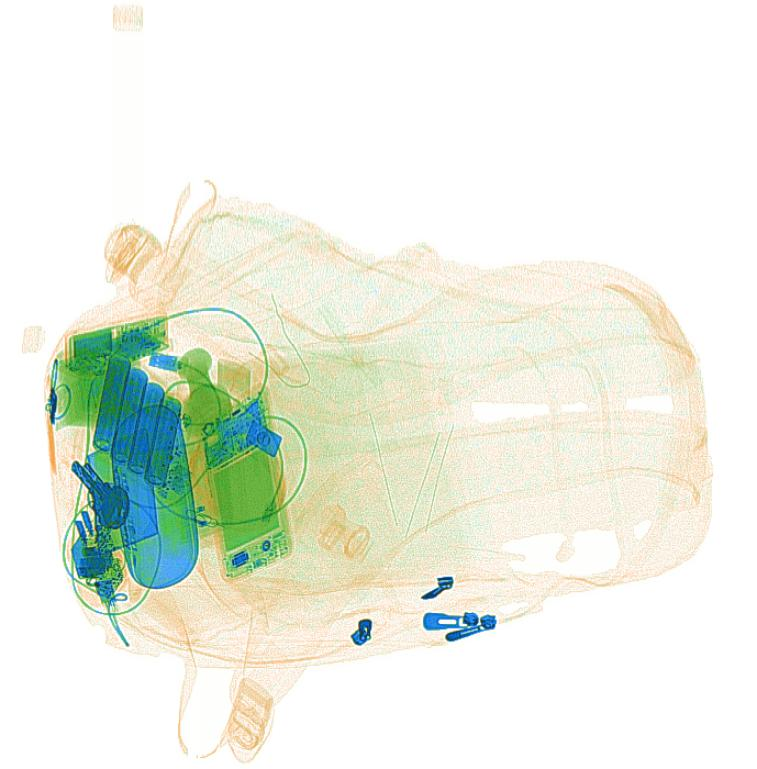battery: (89, 349, 209, 501)
seal: (176, 343, 236, 441)
